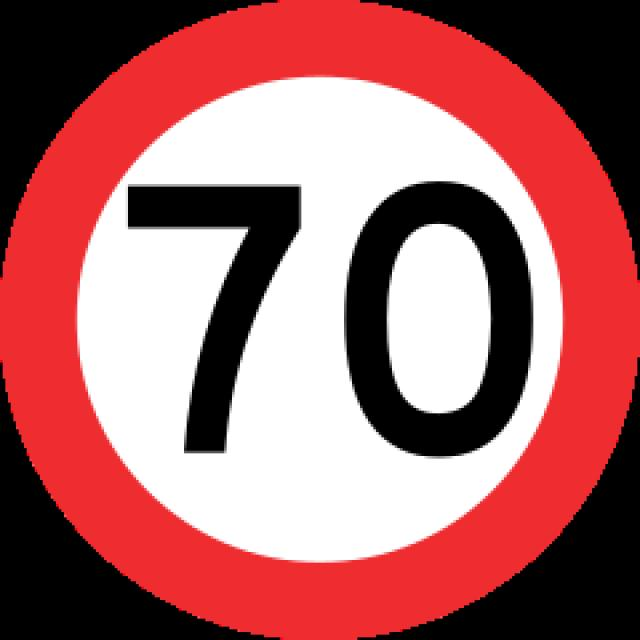Speed Limit -70-: (82, 126, 552, 506)
